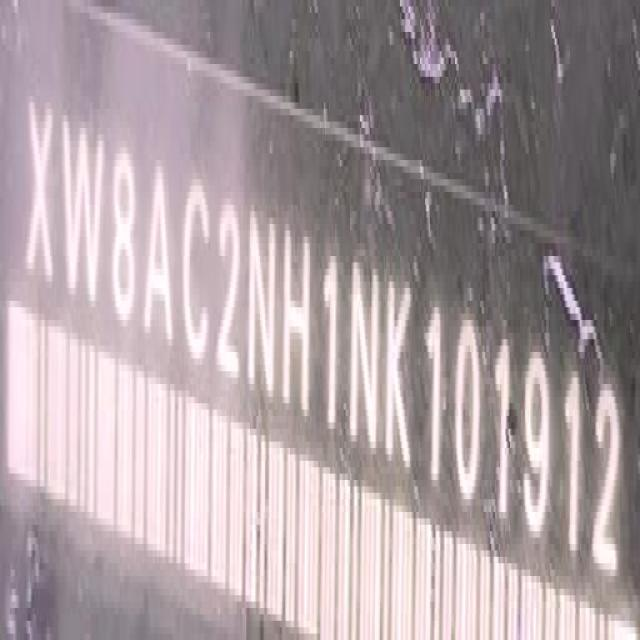0: (455, 311, 484, 514)
1: (494, 332, 518, 537), (560, 363, 582, 573), (321, 239, 341, 444), (425, 295, 444, 498)
2: (593, 380, 623, 587), (216, 191, 243, 391)
8: (113, 142, 138, 331)
9: (524, 344, 552, 556)
A: (141, 162, 174, 352)
C: (182, 175, 213, 372)
H: (281, 214, 313, 419)
K: (383, 263, 415, 484)
N: (348, 252, 382, 462), (248, 204, 276, 409)
W: (60, 110, 104, 317)
X: (24, 92, 54, 302)
